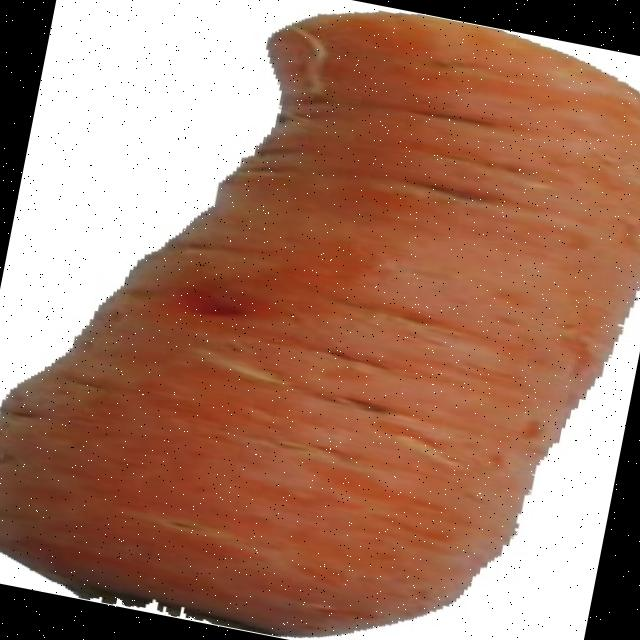carrot: (0, 12, 640, 634)
